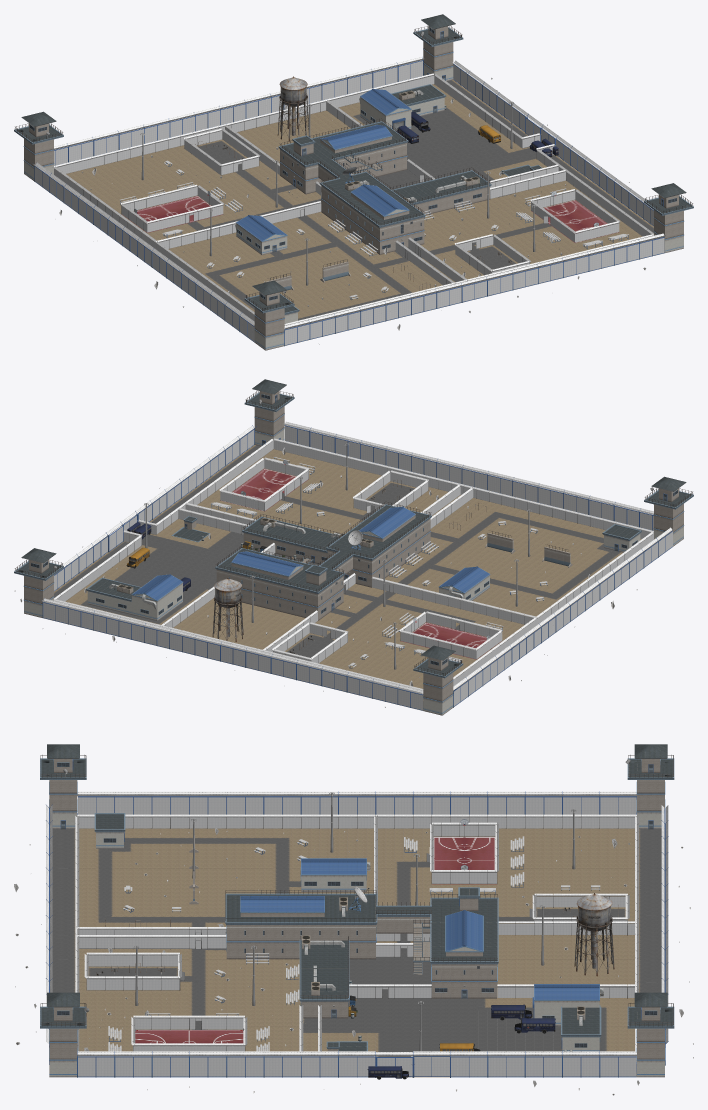
The model's file is prison_map.glb.
The picture shows the model from 3 angles, top to bottom: view 1: azimuth 30°, elevation 25°; view 2: azimuth 150°, elevation 25°; view 3: azimuth 270°, elevation 25°; orthographic projection. The views are drawn at different scales.
Parts seen in each view (by area): view 1: fence_big082_fences_atlas_0, fence_big053_fences_atlas_0, ground08_Prison_atlas_0, ground07_Prison_atlas_0, ground09_Prison_atlas_0, ground05_Prison_atlas_0, ground04_Prison_atlas_0, fence_big097_fences_atlas_0, ground11_Prison_atlas_0, building03_Prison_atlas_0, building04_Prison_atlas_0, ground06_Prison_atlas_0 (+30 smaller); view 2: fence_big053_fences_atlas_0, fence_big082_fences_atlas_0, ground05_Prison_atlas_0, ground09_Prison_atlas_0, ground07_Prison_atlas_0, ground08_Prison_atlas_0, ground11_Prison_atlas_0, fence_big097_fences_atlas_0, ground10_Prison_atlas_0, building04_Prison_atlas_0, ground00_Prison_atlas_0, building03_Prison_atlas_0 (+31 smaller); view 3: fence_big097_fences_atlas_0, ground07_Prison_atlas_0, ground04_Prison_atlas_0, ground10_Prison_atlas_0, ground05_Prison_atlas_0, ground09_Prison_atlas_0, ground11_Prison_atlas_0, fence_big058_fences_atlas_0, building03_Prison_atlas_0, fence_small175_fences_atlas_0, ground08_Prison_atlas_0, fence_big056_fences_atlas_0 (+34 smaller).
Part boxes in pixels (x1,y1,x2,y2): fence_big082_fences_atlas_0: (284,233,665,346); fence_big053_fences_atlas_0: (54,56,424,165); ground08_Prison_atlas_0: (238,170,490,266); ground07_Prison_atlas_0: (121,200,327,297); ground09_Prison_atlas_0: (407,131,617,231); ground05_Prison_atlas_0: (168,110,350,200); ground04_Prison_atlas_0: (38,149,236,228); fence_big097_fences_atlas_0: (33,162,254,342); ground11_Prison_atlas_0: (343,233,550,317); building03_Prison_atlas_0: (319,171,425,254); building04_Prison_atlas_0: (278,121,408,194); ground06_Prison_atlas_0: (327,80,522,158); fence_big053_fences_atlas_0: (41,598,423,710); fence_big082_fences_atlas_0: (283,421,653,530); ground05_Prison_atlas_0: (152,599,389,682); ground09_Prison_atlas_0: (105,485,325,581); ground07_Prison_atlas_0: (390,554,613,652); ground08_Prison_atlas_0: (273,516,484,624); ground11_Prison_atlas_0: (333,476,539,554); fence_big097_fences_atlas_0: (453,527,674,707); ground10_Prison_atlas_0: (485,514,669,586); building04_Prison_atlas_0: (215,548,345,620); ground00_Prison_atlas_0: (200,445,381,517); building03_Prison_atlas_0: (326,504,431,587); fence_big097_fences_atlas_0: (77,791,636,814); ground07_Prison_atlas_0: (217,828,459,899); ground04_Prison_atlas_0: (460,828,664,899); ground10_Prison_atlas_0: (52,828,217,899); ground05_Prison_atlas_0: (497,900,664,998); ground09_Prison_atlas_0: (217,998,459,1077); ground11_Prison_atlas_0: (52,900,217,994); fence_big058_fences_atlas_0: (77,1051,375,1077); building03_Prison_atlas_0: (225,893,385,959); fence_small175_fences_atlas_0: (77,814,636,828); ground08_Prison_atlas_0: (217,900,431,998); fence_big056_fences_atlas_0: (375,1051,636,1077).
Bounding box in the file's own units: 149 × 22.66 × 146.
Materials: 2 (2 with a texture image).
